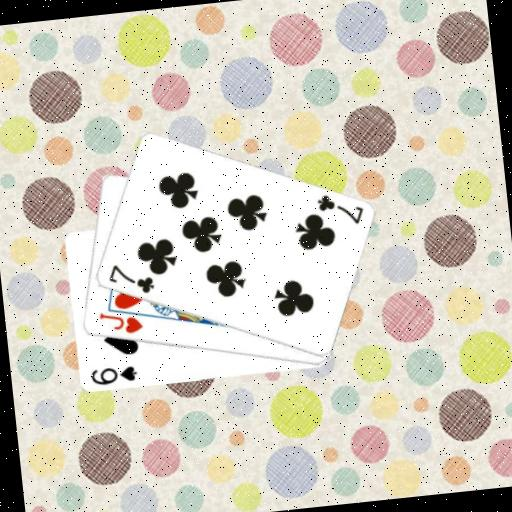6S: (87, 362, 139, 388)
7C: (313, 188, 367, 231), (104, 258, 157, 299)
JH: (95, 306, 145, 338)
